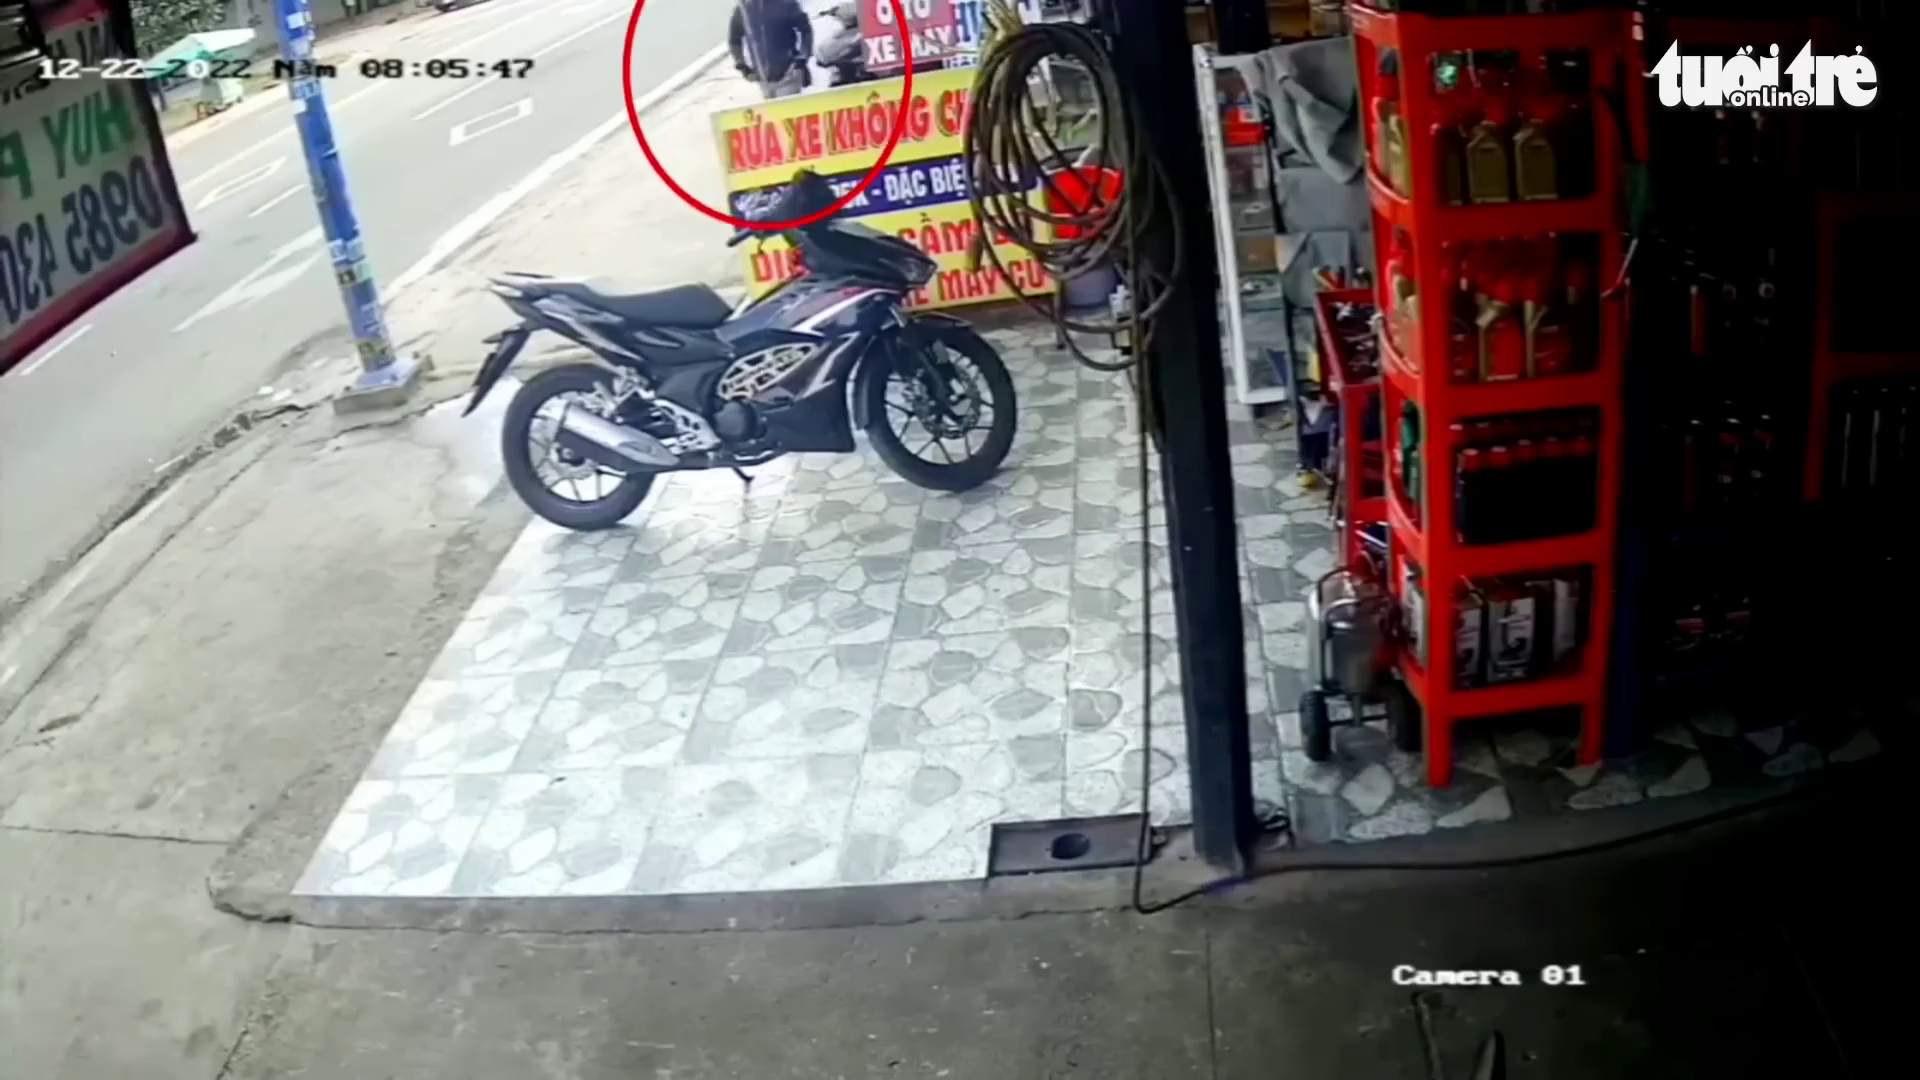Motorcycle: (462, 212, 1019, 530)
